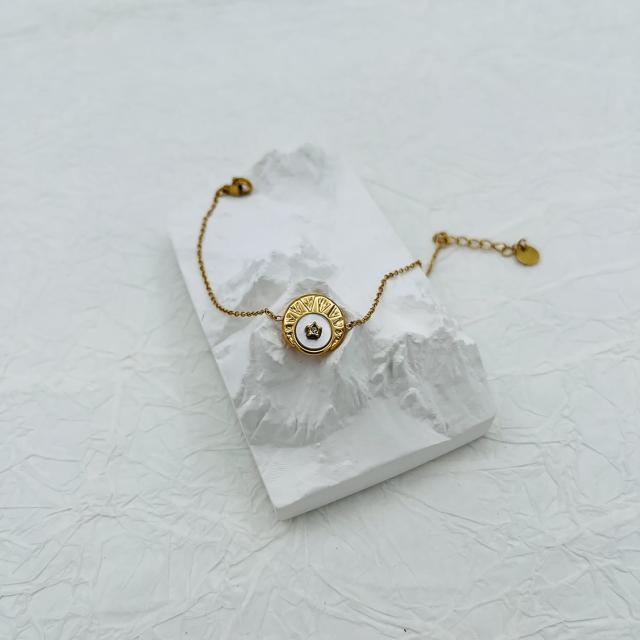bracelet: (171, 136, 614, 404)
